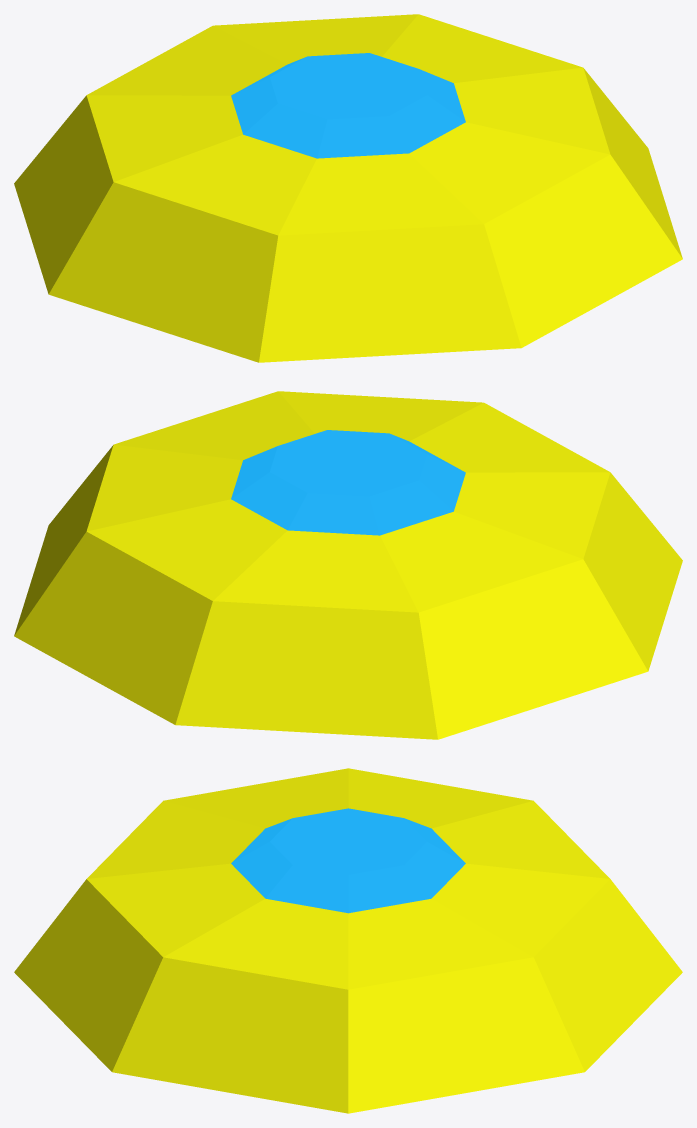
Rendered from Stunmine.glb.
The picture shows the model from 3 angles, top to bottom: view 1: azimuth 30°, elevation 25°; view 2: azimuth 150°, elevation 25°; view 3: azimuth 270°, elevation 25°; orthographic projection. The views are drawn at different scales.
Visible parts, largest first — view 1: Mine; view 2: Mine; view 3: Mine.
Boxes of the visible parts, left/top/right/bottom form: Mine: left=14, top=14, right=682, bottom=362; Mine: left=14, top=391, right=682, bottom=739; Mine: left=14, top=768, right=682, bottom=1113.
Bounding box in the file's own units: 1 × 0.2155 × 1.
